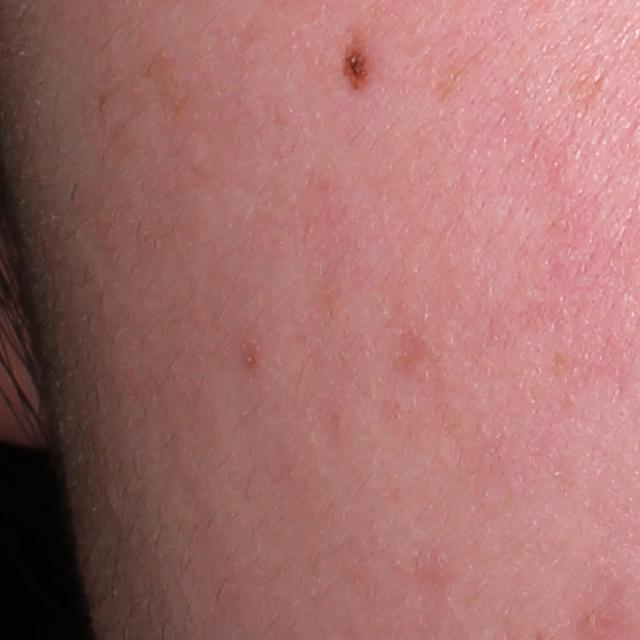nevus: (334, 50, 364, 95)
